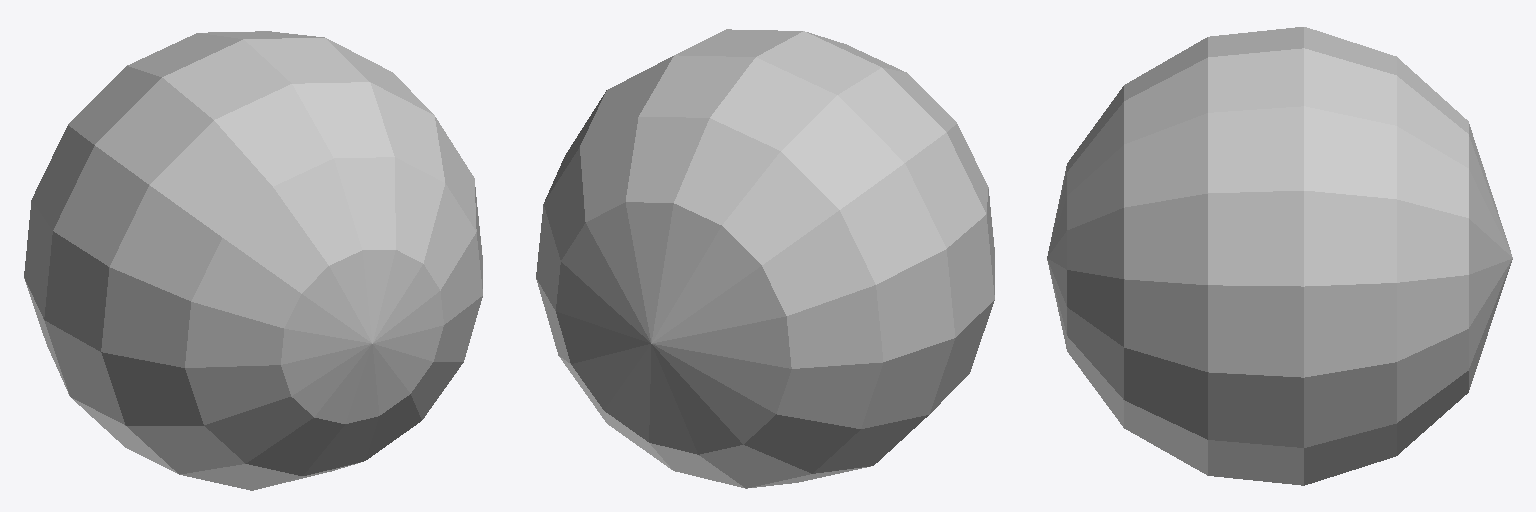
File: esferaReis.obj
3 views of the same model, side by side, from view 1: azimuth 30°, elevation 25°; view 2: azimuth 150°, elevation 25°; view 3: azimuth 270°, elevation 25° (orthographic).
Parts seen in each view (by area): view 1: Sphere001; view 2: Sphere001; view 3: Sphere001.
Part boxes in pixels (left/top/right/bottom): Sphere001: left=24, top=31, right=482, bottom=490; Sphere001: left=536, top=29, right=994, bottom=488; Sphere001: left=1047, top=27, right=1512, bottom=485.
Size of the model in its own units: 19.78 by 19.67 by 20.